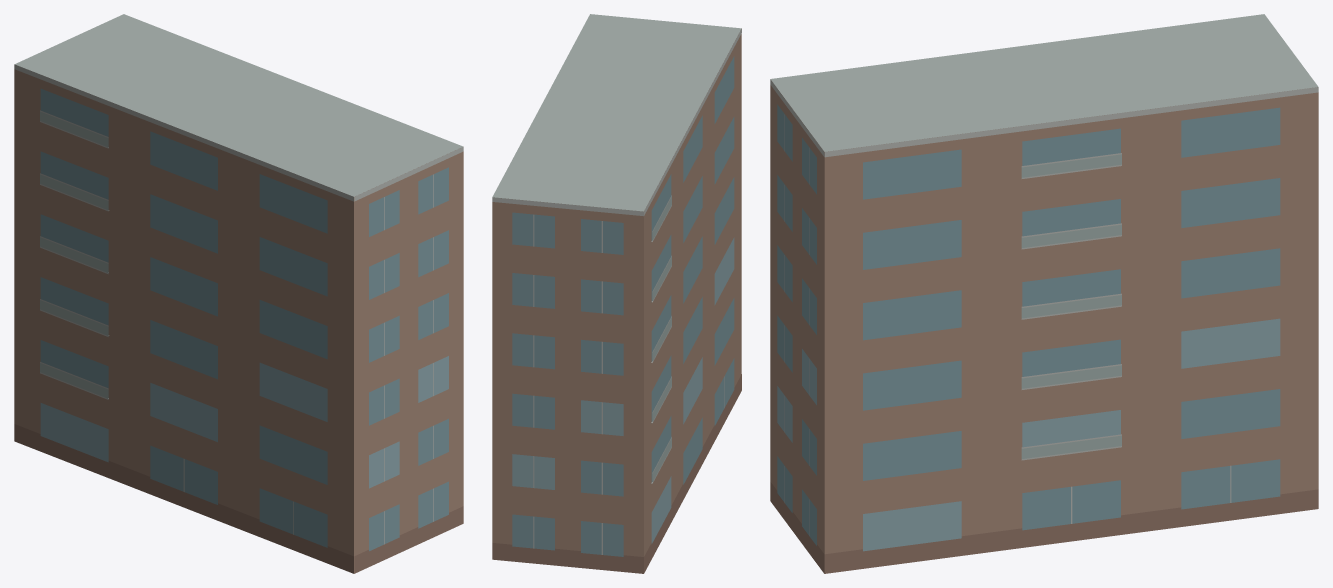
Rendered from survey-upis-32620987.glb.
3 views of the same model, side by side, from view 1: azimuth 30°, elevation 25°; view 2: azimuth 150°, elevation 25°; view 3: azimuth 270°, elevation 25° (orthographic). The views are drawn at different scales.
Parts seen in each view (by area): view 1: survey-upis-32620987.tmp; view 2: survey-upis-32620987.tmp; view 3: survey-upis-32620987.tmp.
Boxes of the visible parts, x1=… form: survey-upis-32620987.tmp: x1=14, y1=14, x2=463, y2=573; survey-upis-32620987.tmp: x1=492, y1=14, x2=741, y2=573; survey-upis-32620987.tmp: x1=770, y1=14, x2=1318, y2=573.
Size of the model in its own units: 13.26 by 18.9 by 22.27.
